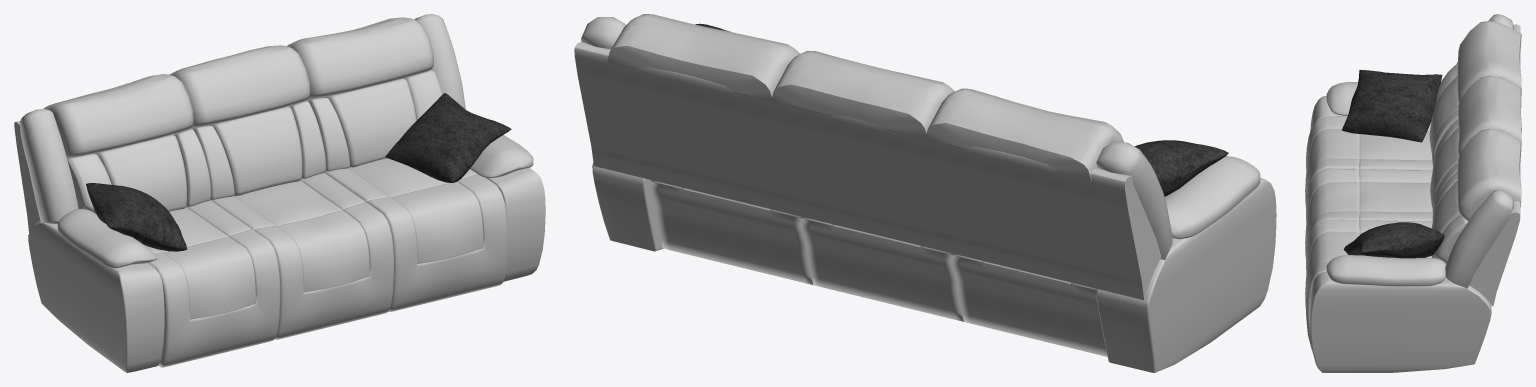
The picture shows the model from 3 angles, left to right: view 1: azimuth 30°, elevation 25°; view 2: azimuth 150°, elevation 25°; view 3: azimuth 270°, elevation 25°; orthographic projection. The views are drawn at different scales.
Visible parts, largest first — view 1: polySurface3761, pillow_02, pillow_03; view 2: polySurface3761, pillow_03; view 3: polySurface3761, pillow_03, pillow_02.
Boxes of the visible parts, x1,y1,x2,y2 form: polySurface3761: (14, 14, 545, 372); pillow_02: (385, 93, 511, 182); pillow_03: (86, 183, 186, 251); polySurface3761: (574, 14, 1276, 372); pillow_03: (1135, 140, 1228, 196); polySurface3761: (1305, 14, 1521, 372); pillow_03: (1341, 69, 1442, 142); pillow_02: (1343, 222, 1444, 258).
Size of the model in its own units: 217 by 96.18 by 102.
